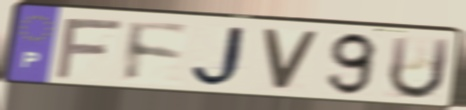9: (323, 30, 381, 99)
F: (51, 18, 127, 82), (123, 19, 191, 86)
J: (188, 25, 254, 91)
U: (385, 34, 454, 102)
V: (258, 26, 323, 95)
